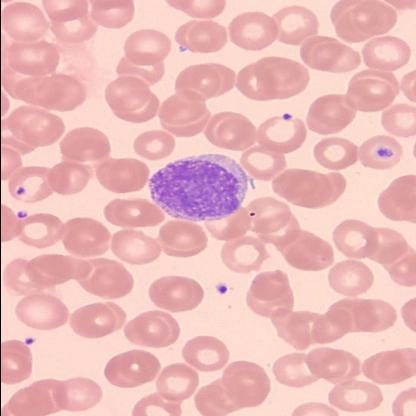Promyelocyte: (147, 154, 249, 222)
